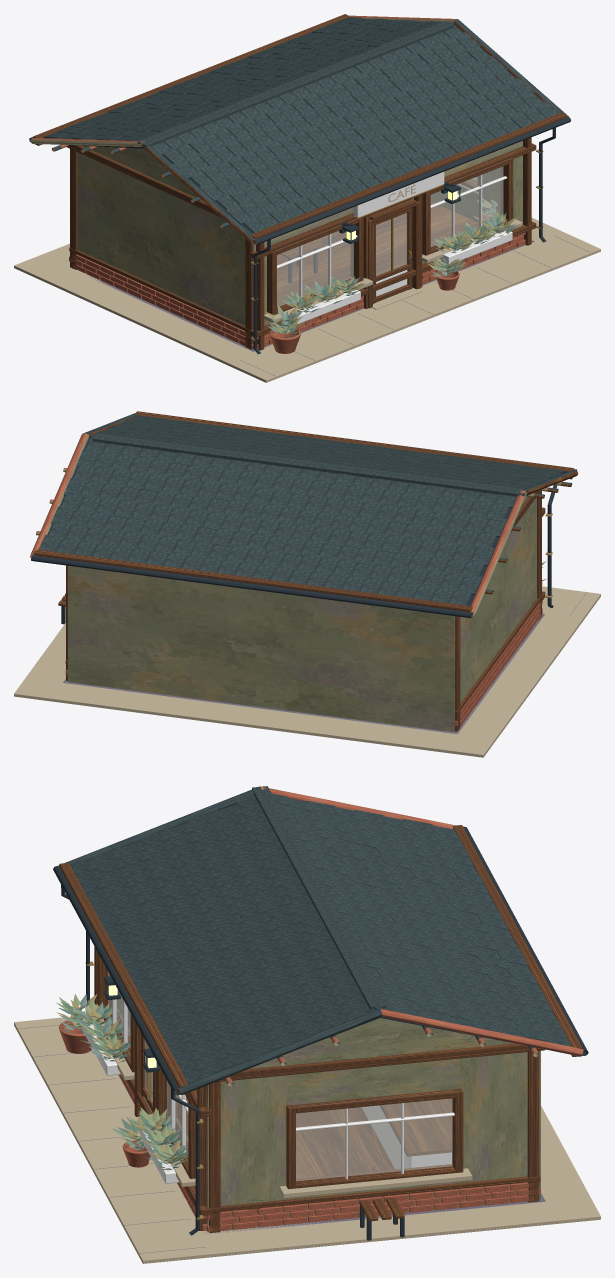
The model's file is cafe.glb.
3 renders of one model, top to bottom at view 1: azimuth 30°, elevation 25°; view 2: azimuth 150°, elevation 25°; view 3: azimuth 270°, elevation 25°, orthographic. The views are drawn at different scales.
Parts seen in each view (by area): view 1: CAFE_V11_STATIC_CAFE / painted teal slate.006, CAFE_V11_STATIC_CAFE / painted chestnut timber.006, CAFE_V11_STATIC_CAFE / sage lime plaster.006, CAFE_V11_STATIC_CAFE / warm limestone edge.006, CAFE_V11_STATIC_CAFE / subtle clear window.006, CAFE_V11_STATIC_CAFE / terracotta.006, CAFE_V11_STATIC_CAFE / ink blue iron.006, CAFE_V11_STATIC_CAFE / painted teal joinery.006, CAFE_V11_DOOR_CAFE / subtle clear window.006, CAFE_V11_STATIC_CAFE / foliage 2.006, CAFE_V11_STATIC_CAFE / foliage 3.006, CAFE_V11_STATIC_CAFE / foliage 1.006 (+3 smaller); view 2: CAFE_V11_STATIC_CAFE / painted teal slate.006, CAFE_V11_STATIC_CAFE / sage lime plaster.006, CAFE_V11_STATIC_CAFE / warm limestone edge.006, CAFE_V11_STATIC_CAFE / painted chestnut timber.006, CAFE_V11_STATIC_CAFE / ink blue iron.006, CAFE_V11_STATIC_CAFE / terracotta.006, CAFE_V11_STATIC_CAFE / violet damp paving.006; view 3: CAFE_V11_STATIC_CAFE / painted teal slate.006, CAFE_V11_STATIC_CAFE / painted chestnut timber.006, CAFE_V11_STATIC_CAFE / warm limestone edge.006, CAFE_V11_STATIC_CAFE / sage lime plaster.006, CAFE_V11_STATIC_CAFE / subtle clear window.006, CAFE_V11_STATIC_CAFE / terracotta.006, CAFE_V11_STATIC_CAFE / ink blue iron.006, CAFE_V11_STATIC_CAFE / painted teal joinery.006, CAFE_V11_STATIC_CAFE / foliage 0.006, CAFE_V11_STATIC_CAFE / foliage 1.006, CAFE_V11_STATIC_CAFE / foliage 3.006, CAFE_V11_STATIC_CAFE / foliage 2.006 (+1 smaller).
Part boxes in pixels (x1,y1,x2,y2): CAFE_V11_STATIC_CAFE / painted teal slate.006: (44,17,559,232); CAFE_V11_STATIC_CAFE / painted chestnut timber.006: (31,14,569,350); CAFE_V11_STATIC_CAFE / sage lime plaster.006: (77,140,522,343); CAFE_V11_STATIC_CAFE / warm limestone edge.006: (14,177,600,382); CAFE_V11_STATIC_CAFE / subtle clear window.006: (277,166,503,307); CAFE_V11_STATIC_CAFE / terracotta.006: (69,213,525,353); CAFE_V11_STATIC_CAFE / ink blue iron.006: (29,24,570,354); CAFE_V11_STATIC_CAFE / painted teal joinery.006: (277,171,512,324); CAFE_V11_DOOR_CAFE / subtle clear window.006: (376,213,407,275); CAFE_V11_STATIC_CAFE / foliage 2.006: (265,198,515,335); CAFE_V11_STATIC_CAFE / foliage 3.006: (266,199,518,337); CAFE_V11_STATIC_CAFE / foliage 1.006: (271,203,513,333); CAFE_V11_STATIC_CAFE / painted teal slate.006: (39,415,564,605); CAFE_V11_STATIC_CAFE / sage lime plaster.006: (68,496,536,732); CAFE_V11_STATIC_CAFE / warm limestone edge.006: (14,586,600,757); CAFE_V11_STATIC_CAFE / painted chestnut timber.006: (30,411,578,731); CAFE_V11_STATIC_CAFE / ink blue iron.006: (31,437,576,624); CAFE_V11_STATIC_CAFE / terracotta.006: (65,582,542,726); CAFE_V11_STATIC_CAFE / violet damp paving.006: (63,592,586,734); CAFE_V11_STATIC_CAFE / painted teal slate.006: (71,786,571,1083); CAFE_V11_STATIC_CAFE / painted chestnut timber.006: (58,786,583,1232); CAFE_V11_STATIC_CAFE / warm limestone edge.006: (14,1004,600,1263); CAFE_V11_STATIC_CAFE / sage lime plaster.006: (116,990,540,1229); CAFE_V11_STATIC_CAFE / subtle clear window.006: (108,972,452,1181); CAFE_V11_STATIC_CAFE / terracotta.006: (59,1020,540,1232); CAFE_V11_STATIC_CAFE / ink blue iron.006: (53,803,588,1240); CAFE_V11_STATIC_CAFE / painted teal joinery.006: (82,999,454,1183); CAFE_V11_STATIC_CAFE / foliage 0.006: (58,1001,265,1202); CAFE_V11_STATIC_CAFE / foliage 1.006: (55,994,263,1198); CAFE_V11_STATIC_CAFE / foliage 3.006: (59,994,248,1207); CAFE_V11_STATIC_CAFE / foliage 2.006: (56,994,254,1196).
Bounding box in the file's own units: 12.63 × 4.76 × 11.08.
17 materials, 4 textured.
